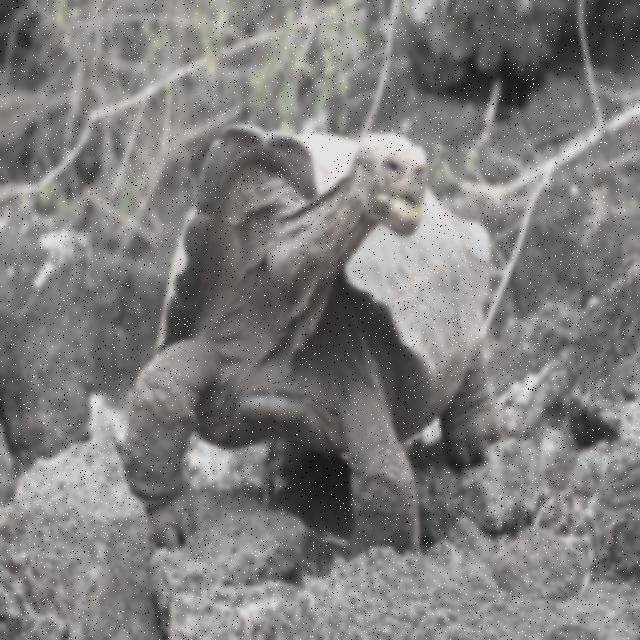tortoise: (108, 115, 502, 552)
